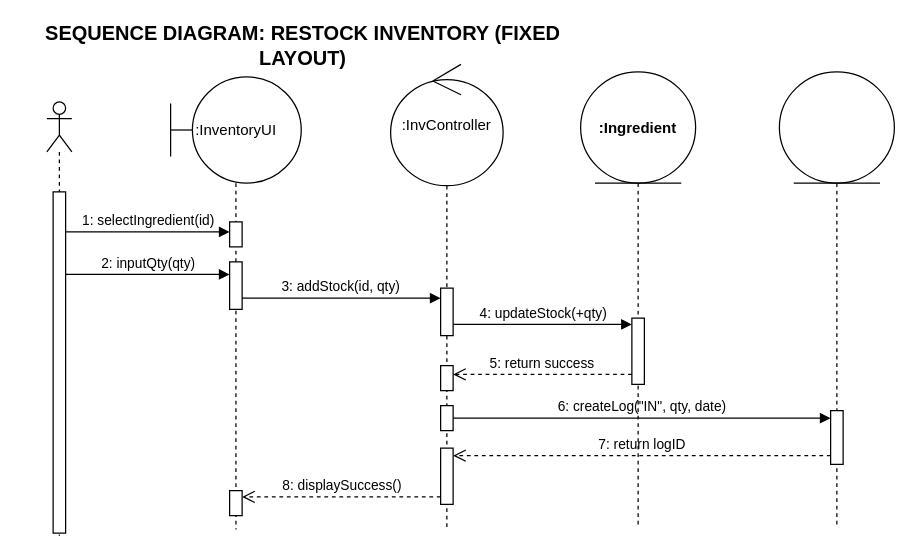
Image size: 916x558. Some labels were removed from this diagram. Here are the shapes that lost their labels. From the top down, the box of each, then its label:
(778, 71, 894, 524): :StockLog
(46, 101, 72, 536): :Admin
